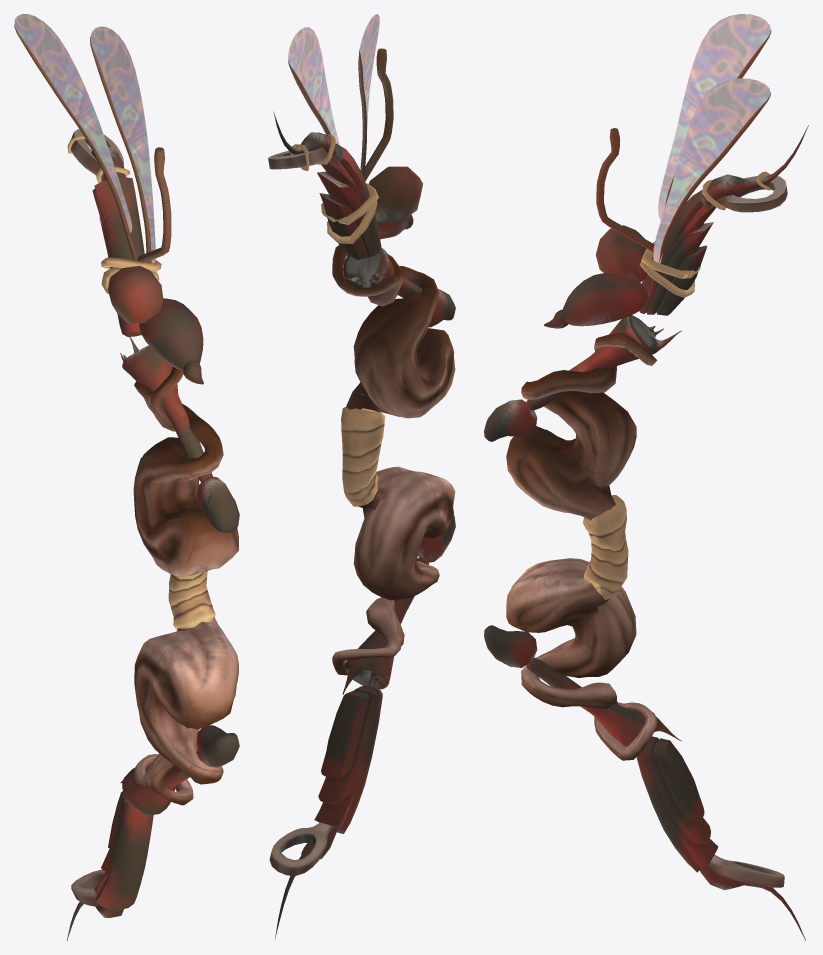
File: Bow_2.glb
3 renders of one model, left to right at view 1: azimuth 30°, elevation 25°; view 2: azimuth 150°, elevation 25°; view 3: azimuth 270°, elevation 25°, orthographic. The views are drawn at different scales.
Parts seen in each view (by area): view 1: Bow3_Concept_2; view 2: Bow3_Concept_2; view 3: Bow3_Concept_2.
Boxes of the visible parts, box(x1,y1,x2,y2) form: Bow3_Concept_2: box(14, 14, 239, 940); Bow3_Concept_2: box(268, 14, 455, 940); Bow3_Concept_2: box(484, 14, 808, 940).
Bounding box in the file's own units: 0.132 × 1.13 × 0.3725.
Materials: 1 (1 with a texture image).
